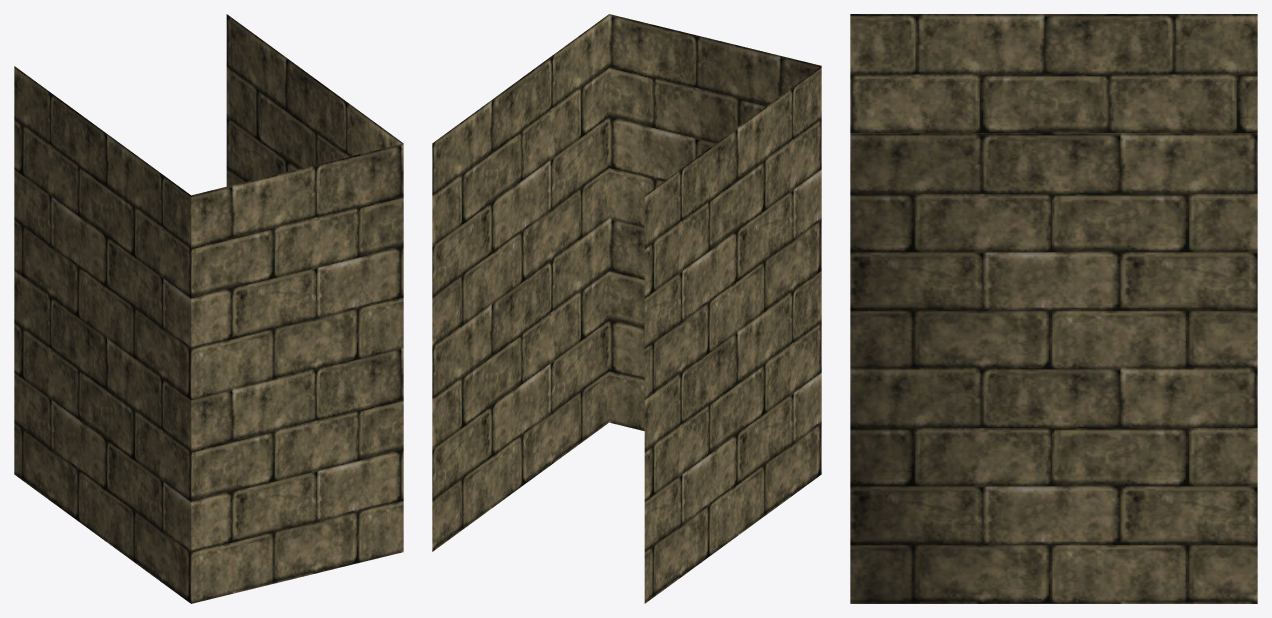
Rendered from OVERHILL_A_01_OBJECT131.fbx.
3 renders of one model, left to right at view 1: azimuth 30°, elevation 25°; view 2: azimuth 150°, elevation 25°; view 3: azimuth 270°, elevation 25°, orthographic. The views are drawn at different scales.
Parts seen in each view (by area): view 1: OVERHILL_A_01_OBJECT131; view 2: OVERHILL_A_01_OBJECT131; view 3: OVERHILL_A_01_OBJECT131.
Boxes of the visible parts, x1=… form: OVERHILL_A_01_OBJECT131: x1=14, y1=14, x2=403, y2=603; OVERHILL_A_01_OBJECT131: x1=432, y1=14, x2=821, y2=603; OVERHILL_A_01_OBJECT131: x1=850, y1=14, x2=1257, y2=603.
Bounding box in the file's own units: 34680 × 63712 × 50000.
Materials: 1 (1 with a texture image).
